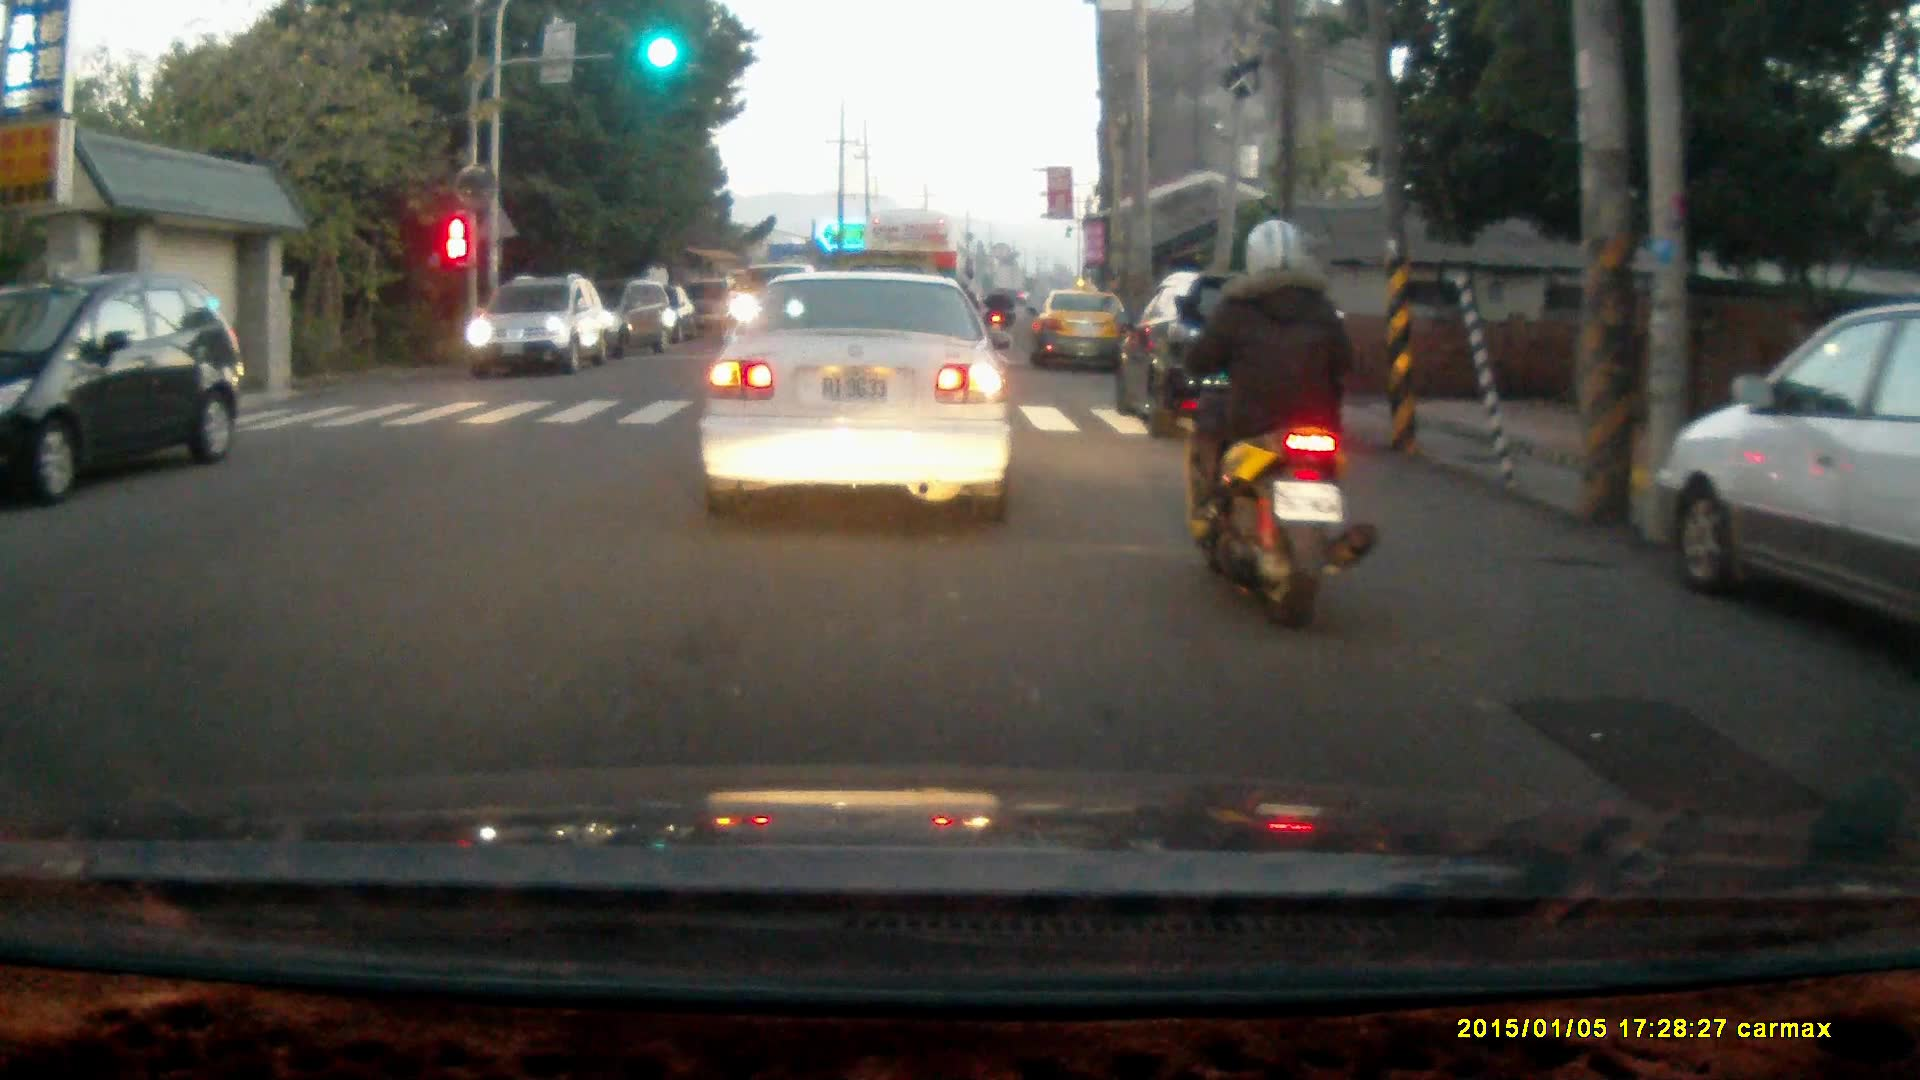rider: (1170, 215, 1378, 636)
vehicle: (1669, 299, 1920, 638), (694, 266, 1017, 527), (1, 275, 242, 511), (1108, 277, 1347, 453), (865, 208, 965, 361), (467, 279, 608, 375), (557, 278, 677, 364), (1030, 290, 1133, 378)
